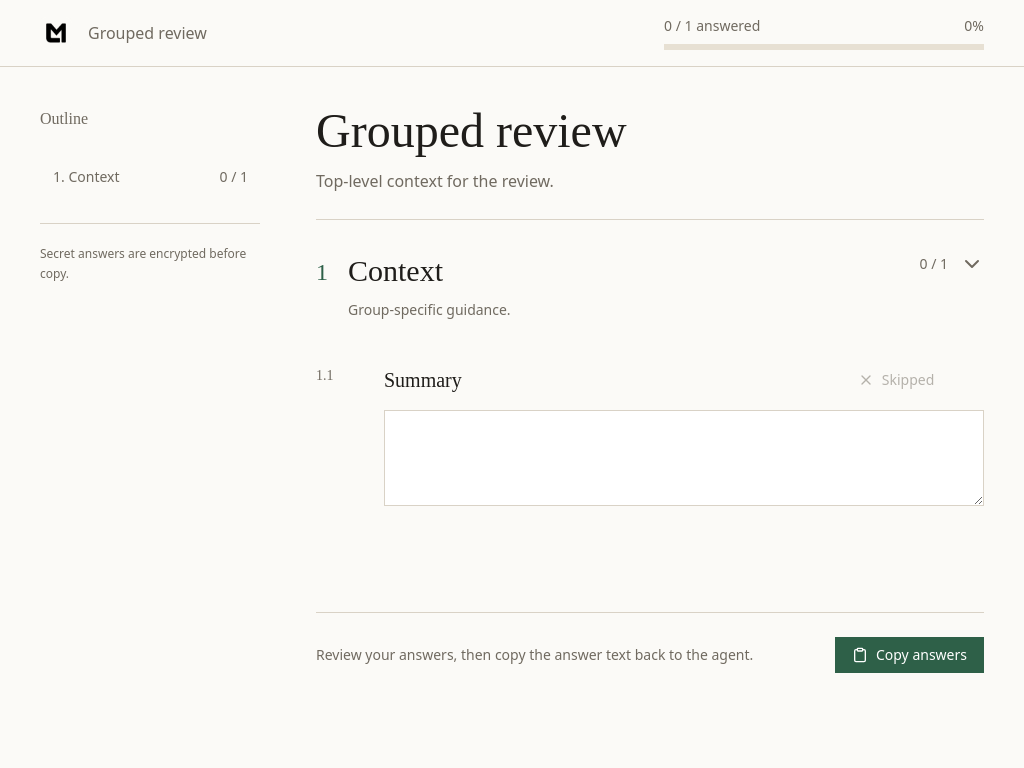
Scenario: Loopmark UI › renders grouped descriptions and collapses grouped sections
The width and height of the screenshot is (1024, 768).
Expected: the text "Top-level context for the review." is shown, [316,170,554,192]
Expected: the text "Group-specific guidance." is shown, [348,298,511,322]
Click the button "1 Context Group-specific guidance. 0 / 1" at (396, 270), box [316,252,984,322]
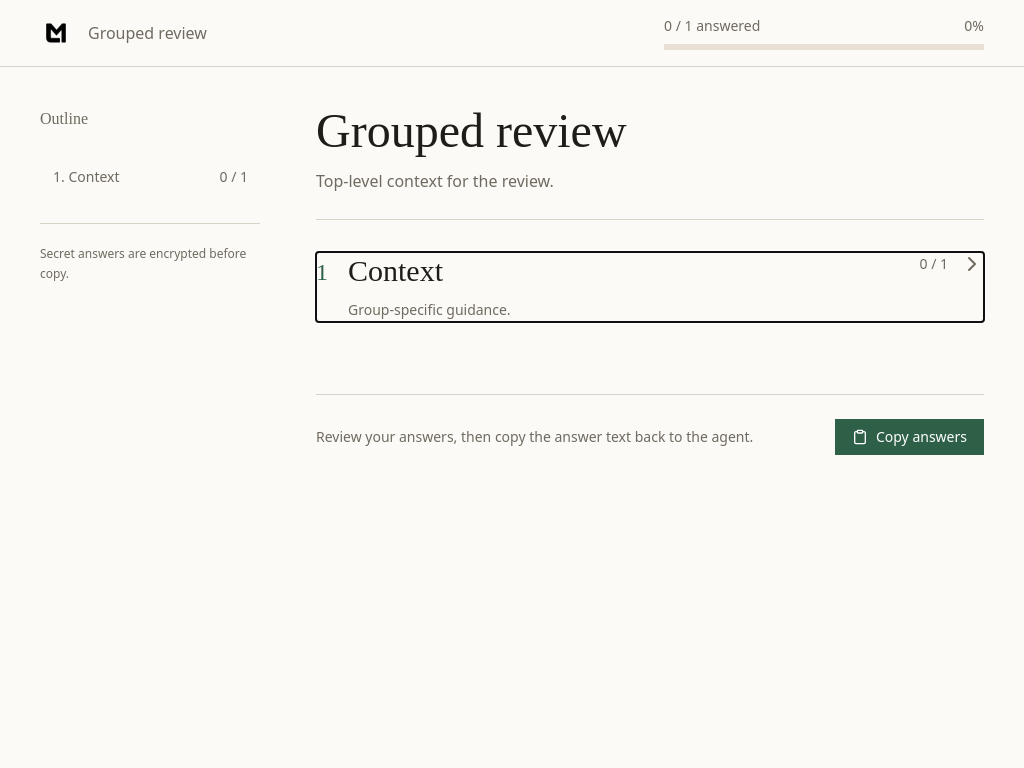
Result: the label labelled "Summary" is gone
